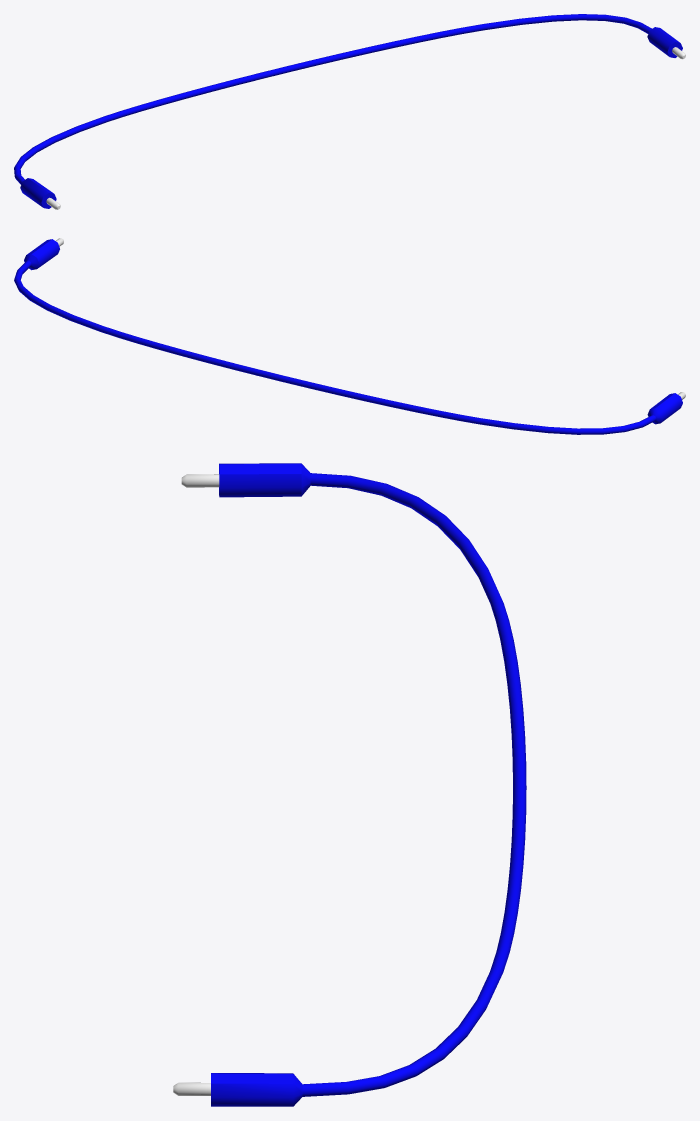
File: ElectroWires10_3.FBX
3 renders of one model, top to bottom at view 1: azimuth 30°, elevation 25°; view 2: azimuth 150°, elevation 25°; view 3: azimuth 270°, elevation 25°, orthographic. The views are drawn at different scales.
Visible parts, largest first — view 1: Wires10; view 2: Wires10; view 3: Wires10.
Part boxes in pixels (x1,y1,x2,y2): Wires10: (14,14,685,209); Wires10: (14,238,685,434); Wires10: (173,463,526,1106).
Size of the model in its own units: 114 by 2.77 by 27.24.
